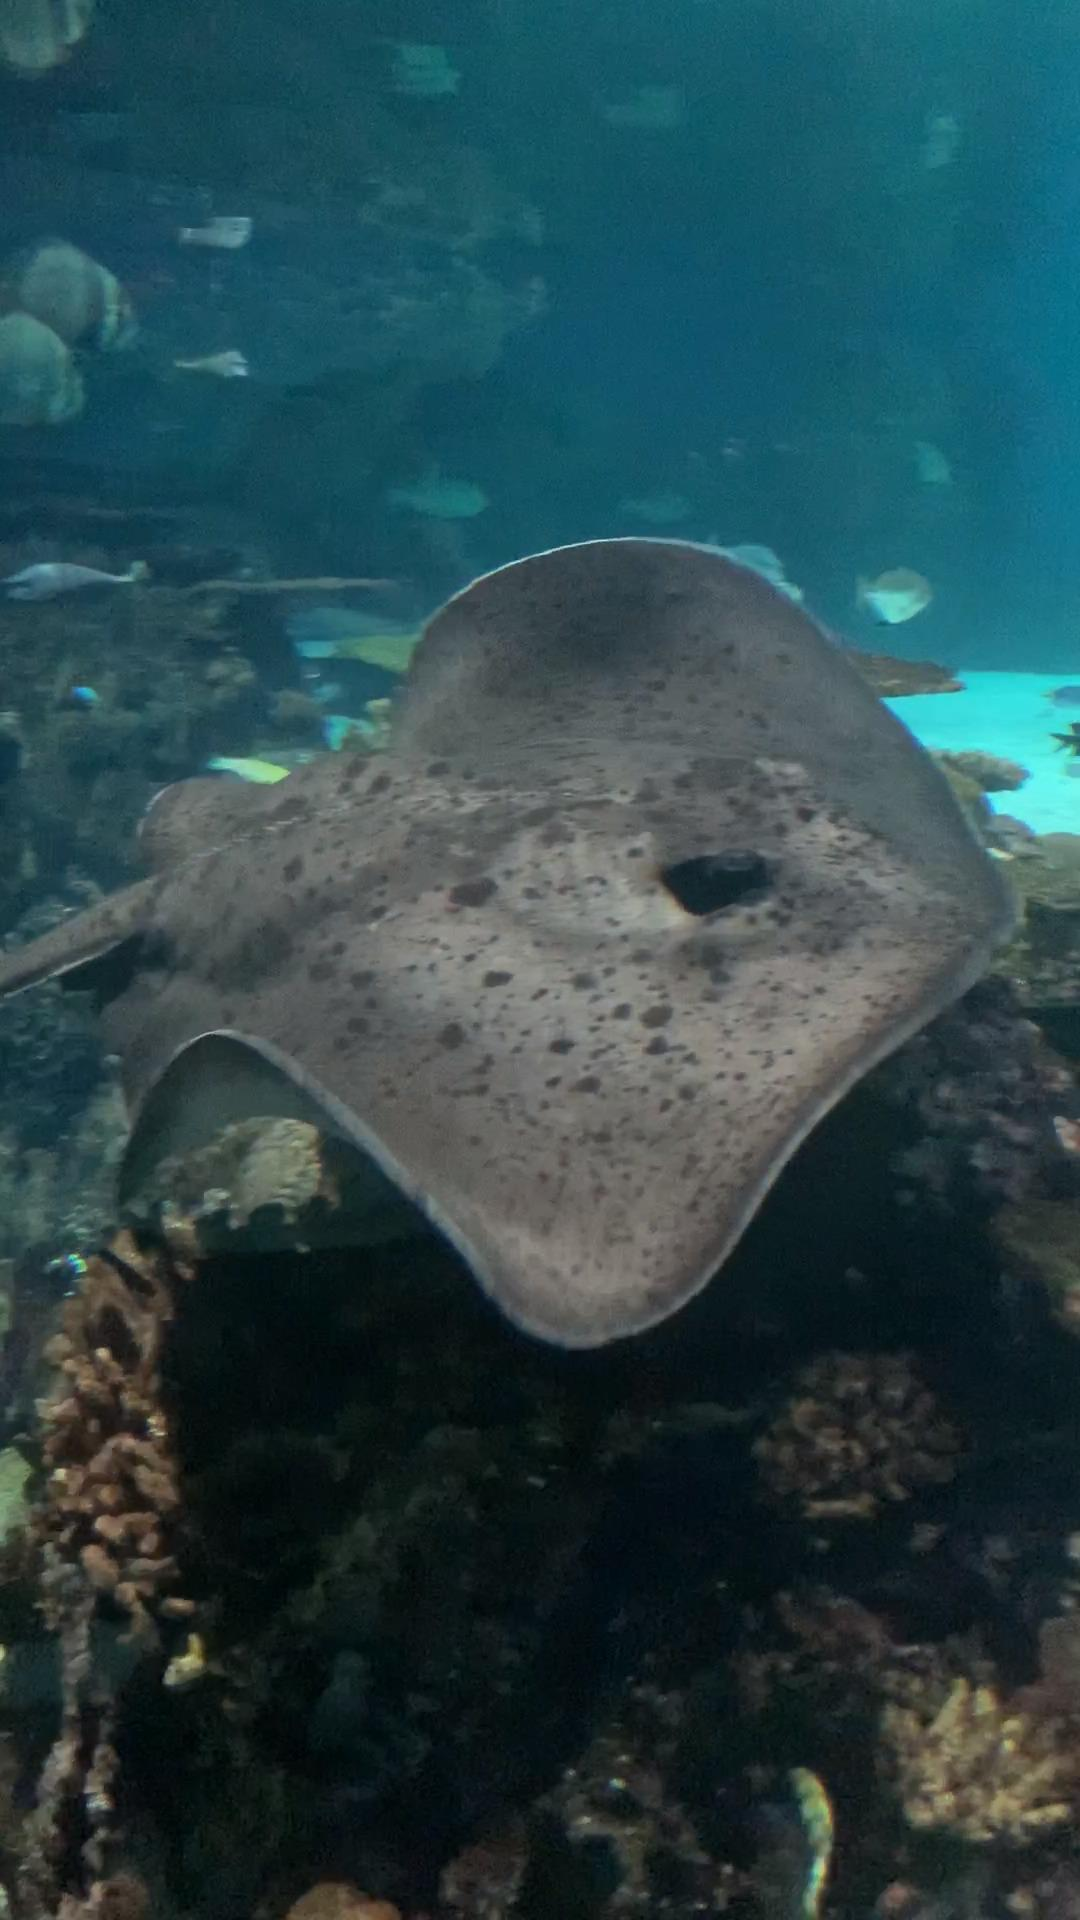fish: (0, 237, 142, 360), (0, 322, 91, 429), (0, 0, 98, 90), (0, 555, 153, 605), (375, 464, 496, 524), (851, 564, 938, 629)
stingray: (102, 535, 1023, 1356)
